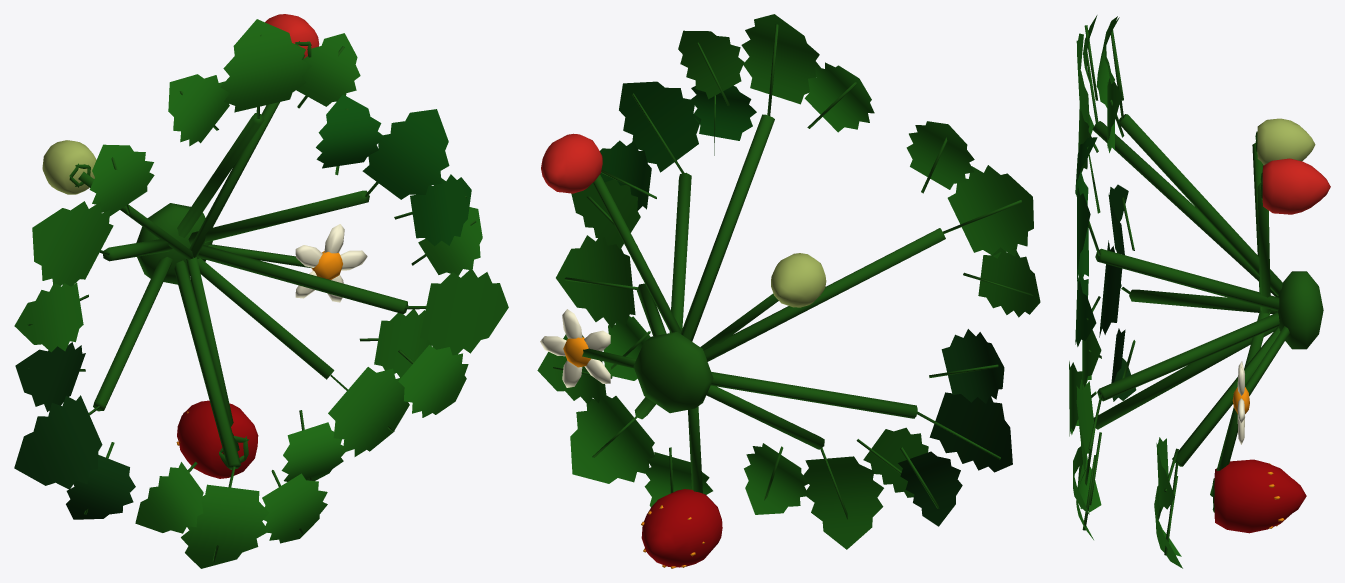
File: plant_variant_11.obj
The picture shows the model from 3 angles, left to right: view 1: azimuth 30°, elevation 25°; view 2: azimuth 150°, elevation 25°; view 3: azimuth 270°, elevation 25°; orthographic projection.
Visible parts, largest first — view 1: field_export_plant_variant_11; view 2: field_export_plant_variant_11; view 3: field_export_plant_variant_11.
Boxes of the visible parts, left/top/right/bottom form: field_export_plant_variant_11: left=14, top=14, right=508, bottom=568; field_export_plant_variant_11: left=537, top=14, right=1040, bottom=568; field_export_plant_variant_11: left=1069, top=15, right=1330, bottom=568.
Bounding box in the file's own units: 0.5761 × 0.5928 × 0.2706.
